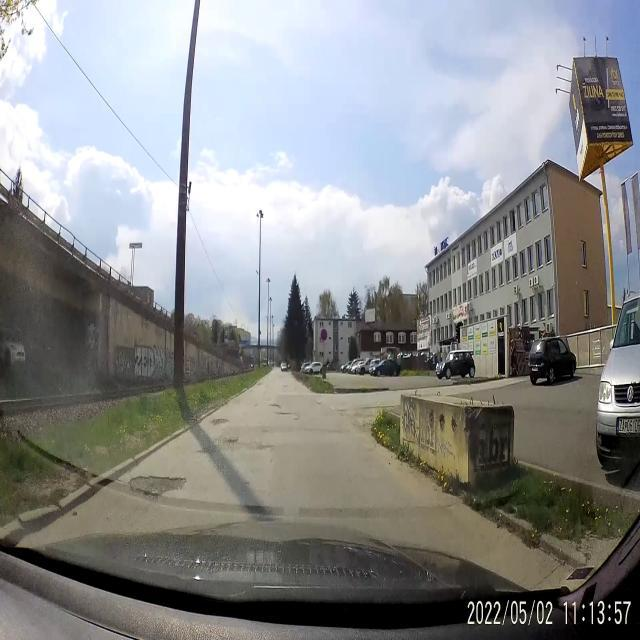Pothole: (126, 470, 186, 504), (276, 408, 300, 426), (213, 416, 232, 432), (254, 440, 270, 458), (223, 438, 240, 450), (264, 399, 284, 409)
